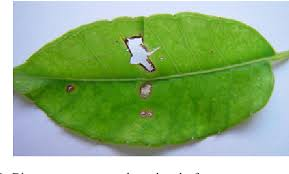unhealthy: (28, 10, 271, 143)
